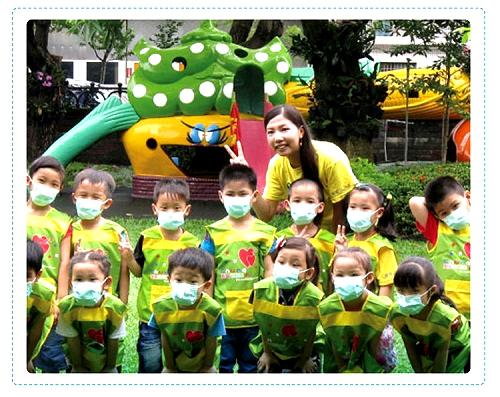NONE: (266, 123, 299, 155)
OK: (30, 171, 65, 206), (170, 271, 204, 305), (394, 281, 428, 315), (272, 255, 305, 288), (332, 267, 365, 300), (70, 272, 103, 305), (76, 190, 110, 219), (440, 201, 471, 232), (223, 186, 253, 218), (348, 204, 379, 234), (158, 201, 187, 230), (290, 196, 320, 224)
